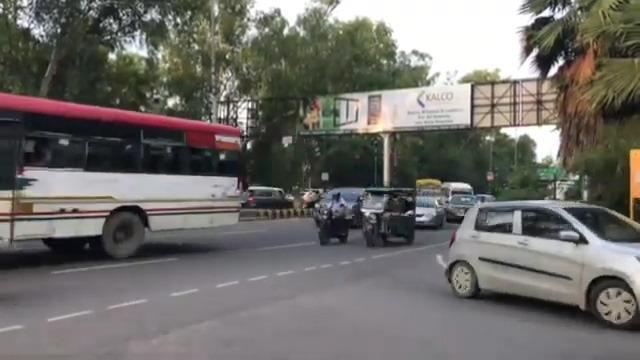Auto: (358, 185, 417, 247)
Bike: (313, 189, 352, 245)
Bus: (0, 89, 248, 260)
